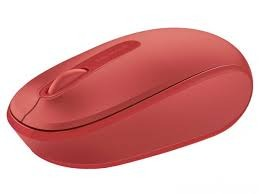mouse: (8, 32, 252, 163)
